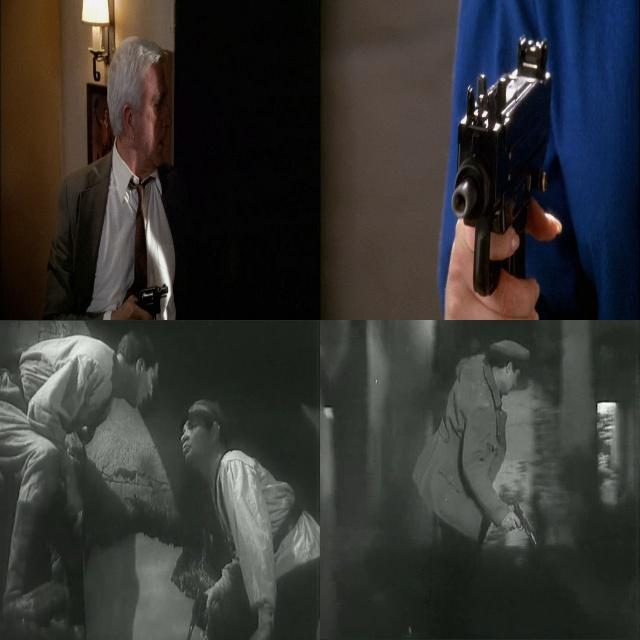gun-knife-thesis - v11 Yolov5 augmented: (445, 27, 553, 317), (497, 492, 539, 549), (173, 586, 214, 637), (129, 275, 169, 318)
